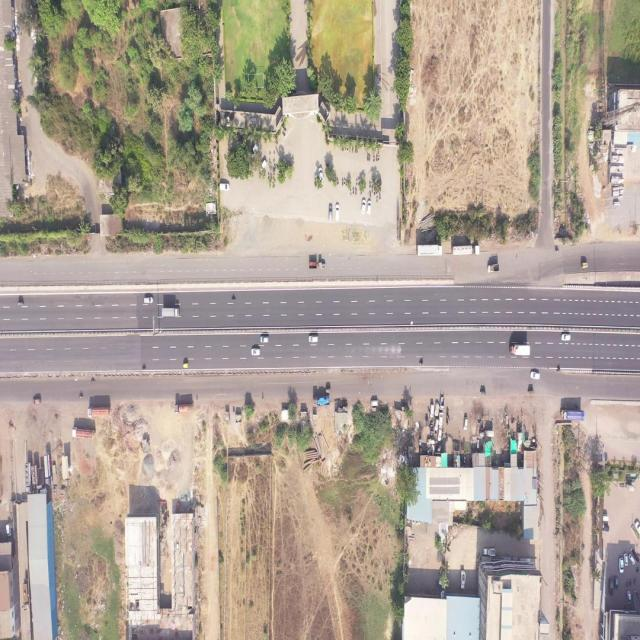3W: (479, 388, 488, 398), (580, 262, 590, 271), (15, 300, 26, 308), (182, 361, 190, 369), (324, 388, 332, 394), (528, 388, 534, 396)
Bus: (416, 243, 444, 257)
Cars: (32, 396, 44, 408), (220, 180, 232, 192), (334, 202, 341, 222), (529, 370, 541, 381), (561, 332, 572, 344), (308, 335, 320, 345), (327, 204, 333, 223), (359, 199, 366, 215), (143, 296, 154, 306), (250, 347, 261, 357), (463, 416, 469, 431), (260, 336, 270, 344), (367, 199, 371, 215)
LCV: (487, 263, 501, 274), (371, 398, 379, 410)
M2W: (227, 289, 238, 305), (77, 390, 85, 400), (553, 247, 562, 255), (91, 377, 97, 386), (140, 364, 147, 370), (555, 366, 561, 372), (418, 361, 424, 366)
MAV: (87, 405, 113, 421), (451, 244, 481, 257), (72, 425, 96, 440), (560, 409, 585, 422), (174, 402, 195, 415)
Truck: (508, 342, 531, 358), (161, 306, 181, 319), (308, 259, 328, 271), (313, 396, 331, 408)
